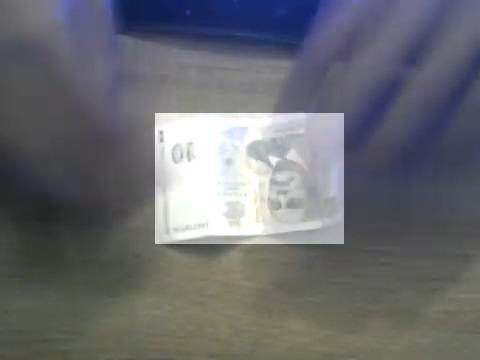10leva: (155, 113, 344, 244)
